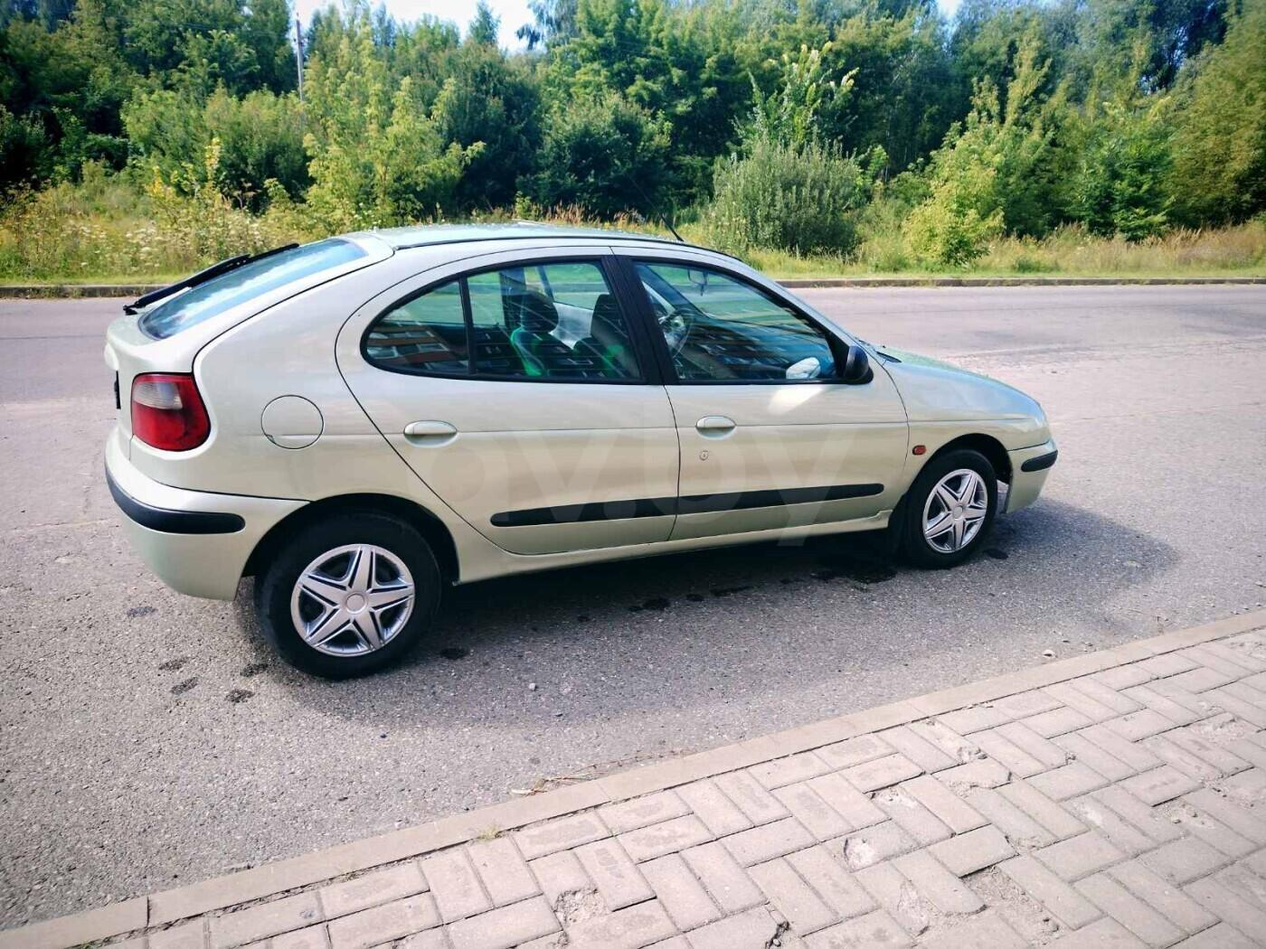Megane_1999-2003: (92, 226, 1048, 665)
